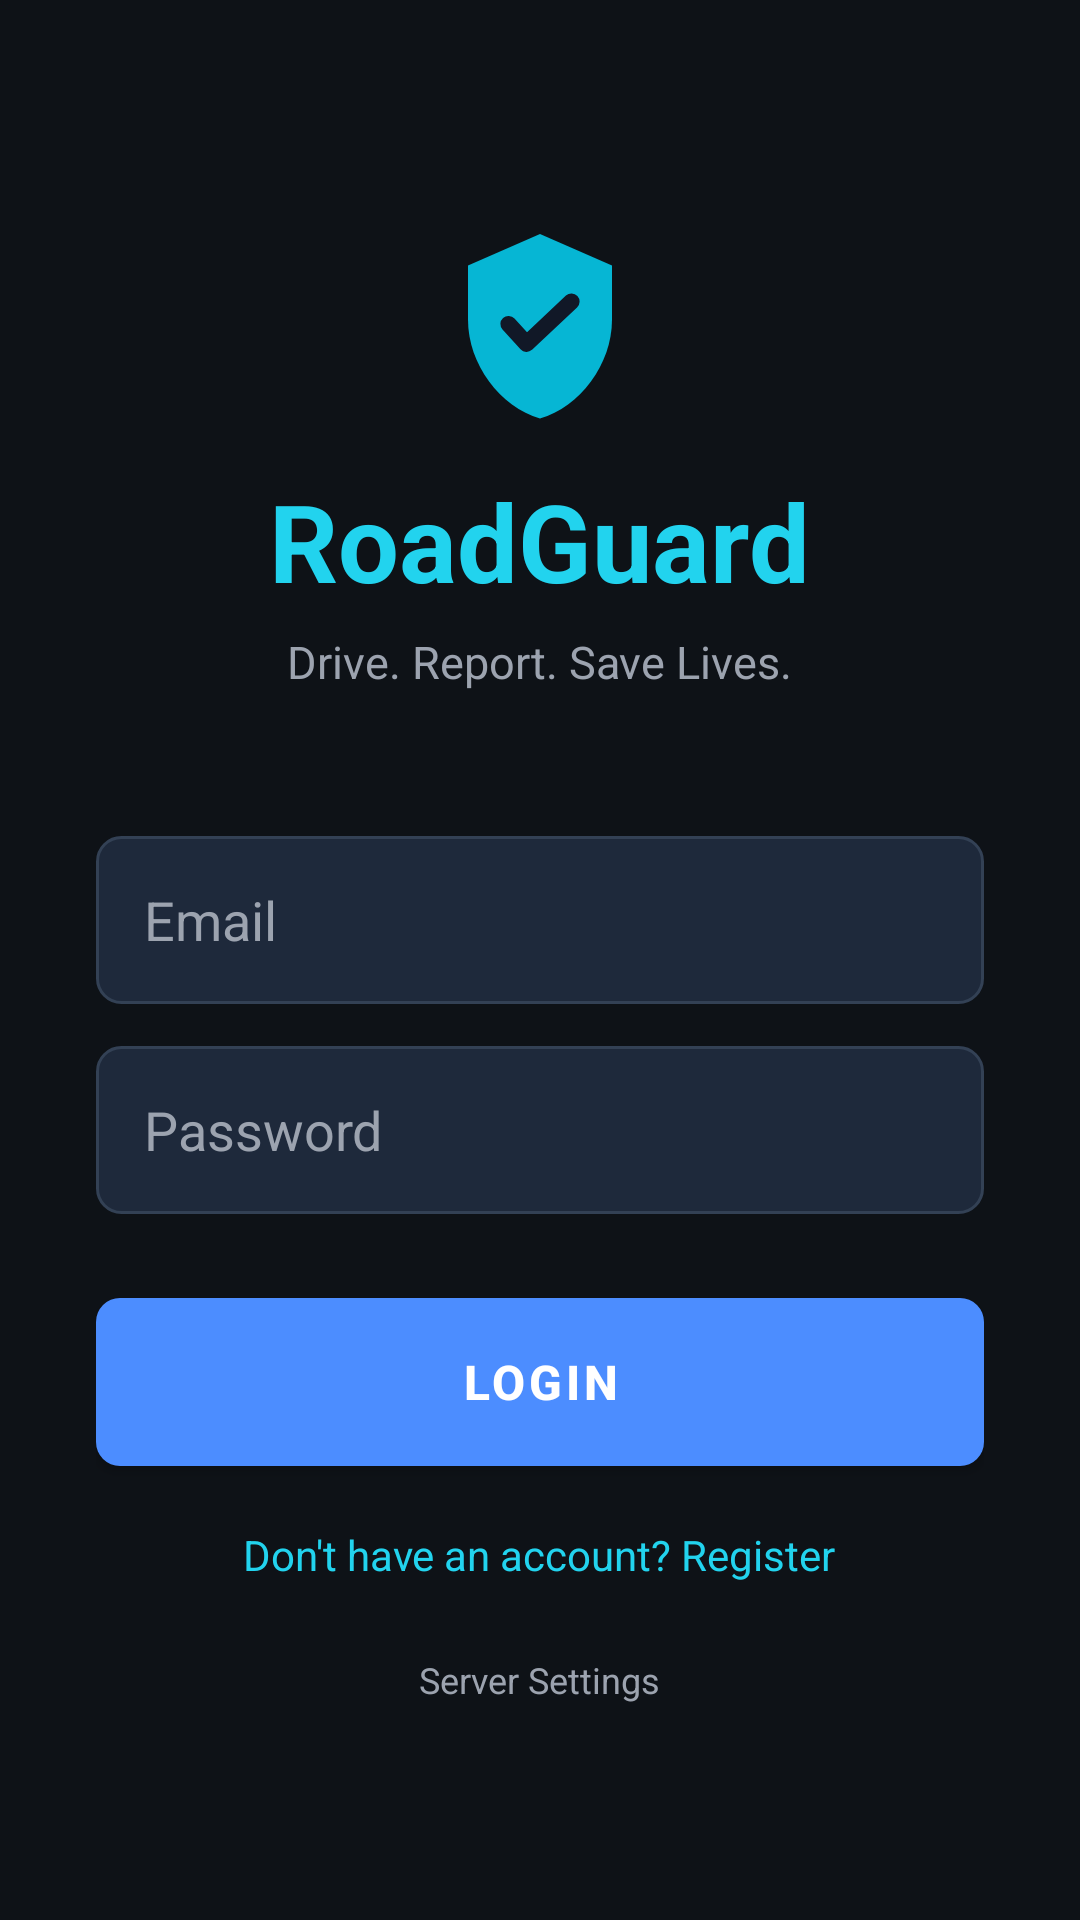

Screen size 1080×1920. Icon name, then its box in pixels as (x1, y1, x2, y2):
shield: (468, 234, 612, 419)
